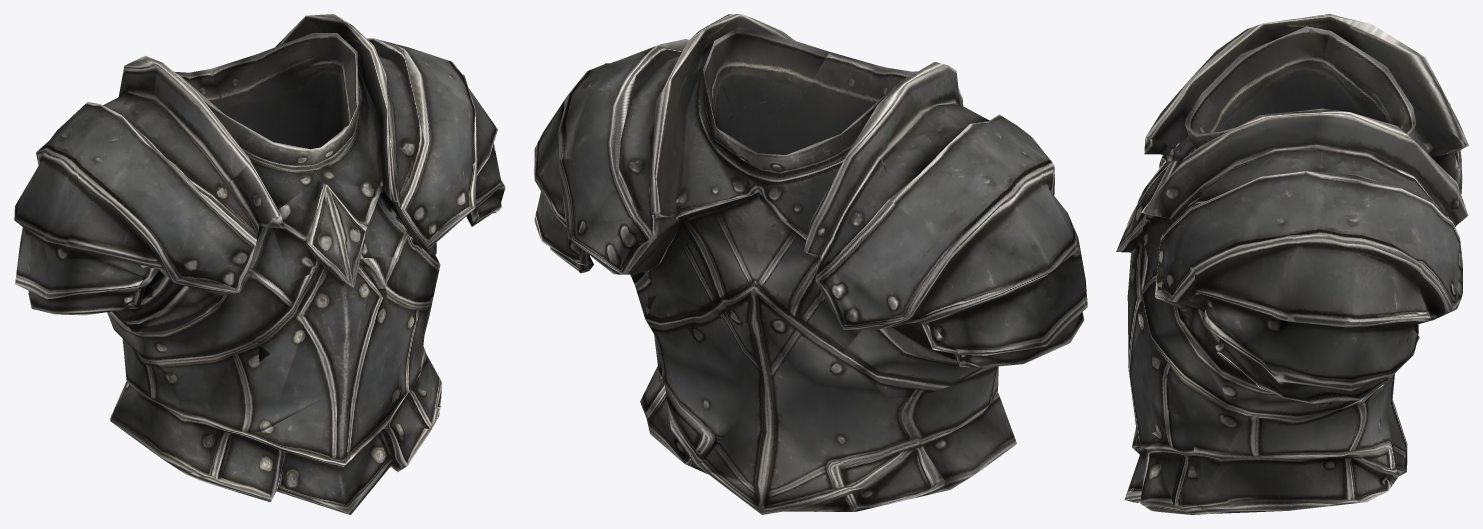
The model's file is Iron_Chest_Armor.glb.
The picture shows the model from 3 angles, left to right: view 1: azimuth 30°, elevation 25°; view 2: azimuth 150°, elevation 25°; view 3: azimuth 270°, elevation 25°; orthographic projection. The views are drawn at different scales.
Size of the model in its own units: 1.89 by 1.58 by 1.15.
Materials: 1 (1 with a texture image).
